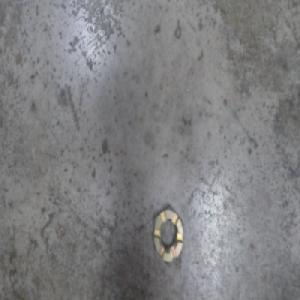Nut: (152, 203, 184, 265)
